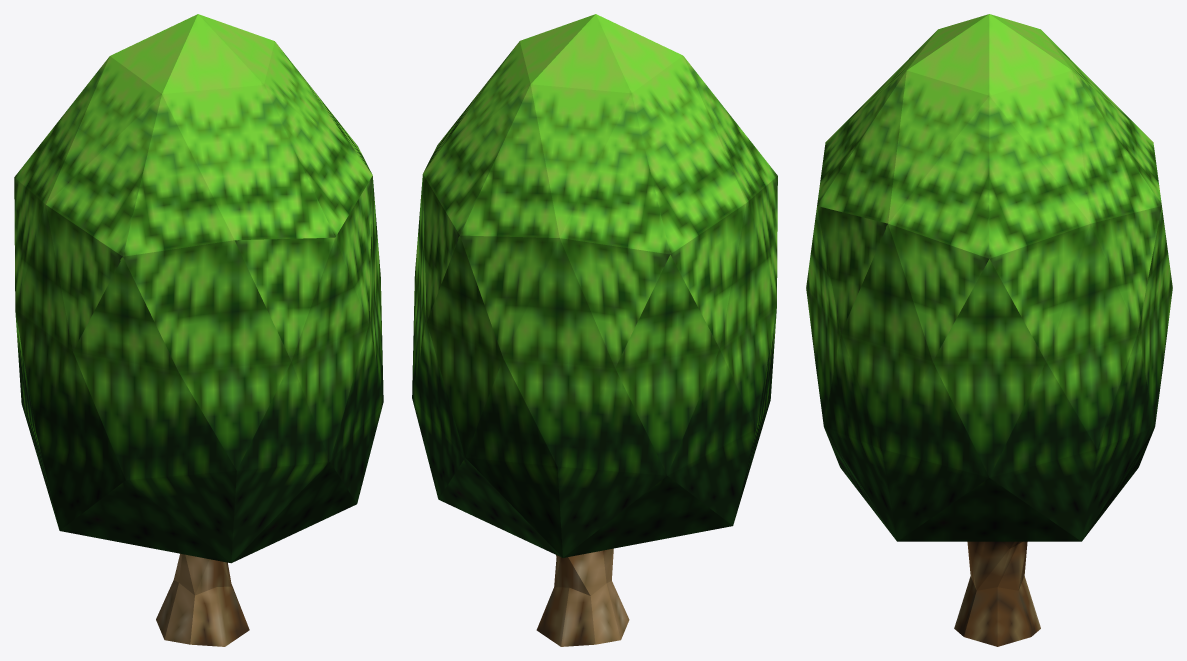
File: Poly_Tree_02.obj
3 views of the same model, side by side, from view 1: azimuth 30°, elevation 25°; view 2: azimuth 150°, elevation 25°; view 3: azimuth 270°, elevation 25° (orthographic).
Visible parts, largest first — view 1: Icosphere.001, Plane.001; view 2: Icosphere.001, Plane.001; view 3: Icosphere.001, Plane.001.
Part boxes in pixels (x1,y1,x2,y2): Icosphere.001: (14, 14, 383, 563); Plane.001: (156, 553, 249, 646); Icosphere.001: (412, 14, 777, 557); Plane.001: (536, 548, 629, 646); Icosphere.001: (806, 14, 1172, 541); Plane.001: (954, 541, 1040, 646).
Size of the model in its own units: 2.39 by 4.41 by 2.4.
1 material, 1 textured.
